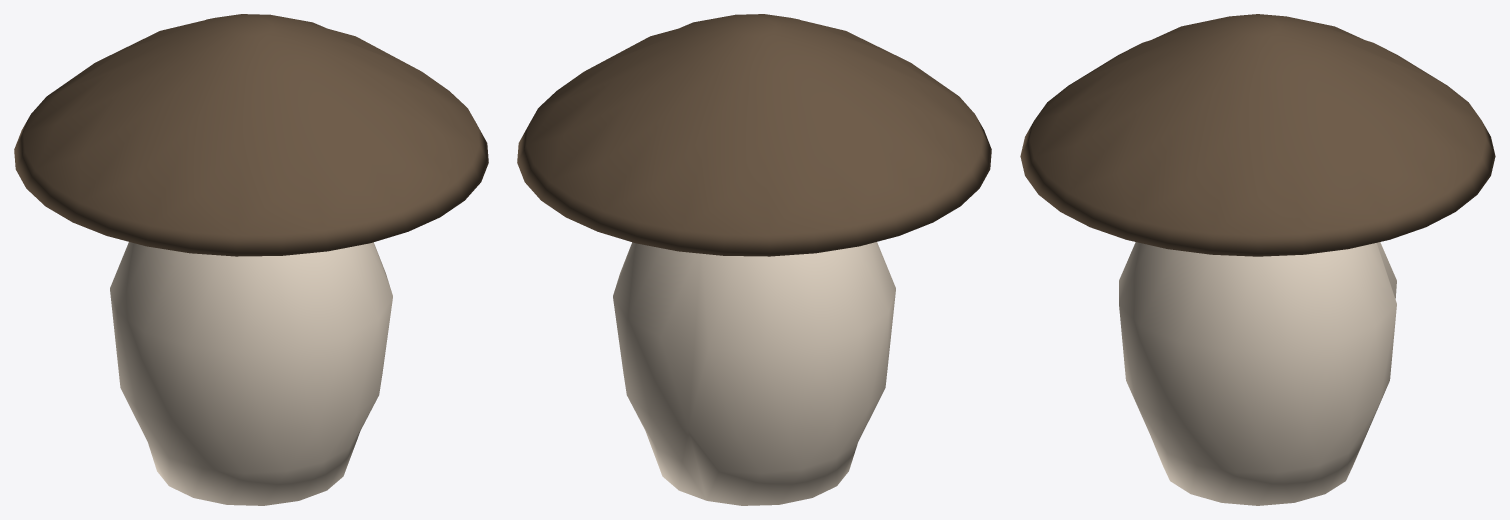
Rendered from White Mushroom.fbx.
The picture shows the model from 3 angles, left to right: view 1: azimuth 30°, elevation 25°; view 2: azimuth 150°, elevation 25°; view 3: azimuth 270°, elevation 25°; orthographic projection.
Parts seen in each view (by area): view 1: White mushroom; view 2: White mushroom; view 3: White mushroom.
Boxes of the visible parts, bbox=[...] form: White mushroom: bbox=[14, 14, 488, 505]; White mushroom: bbox=[517, 14, 991, 505]; White mushroom: bbox=[1020, 14, 1495, 505].
Bounding box in the file's own units: 23.26 × 23.69 × 23.26.
